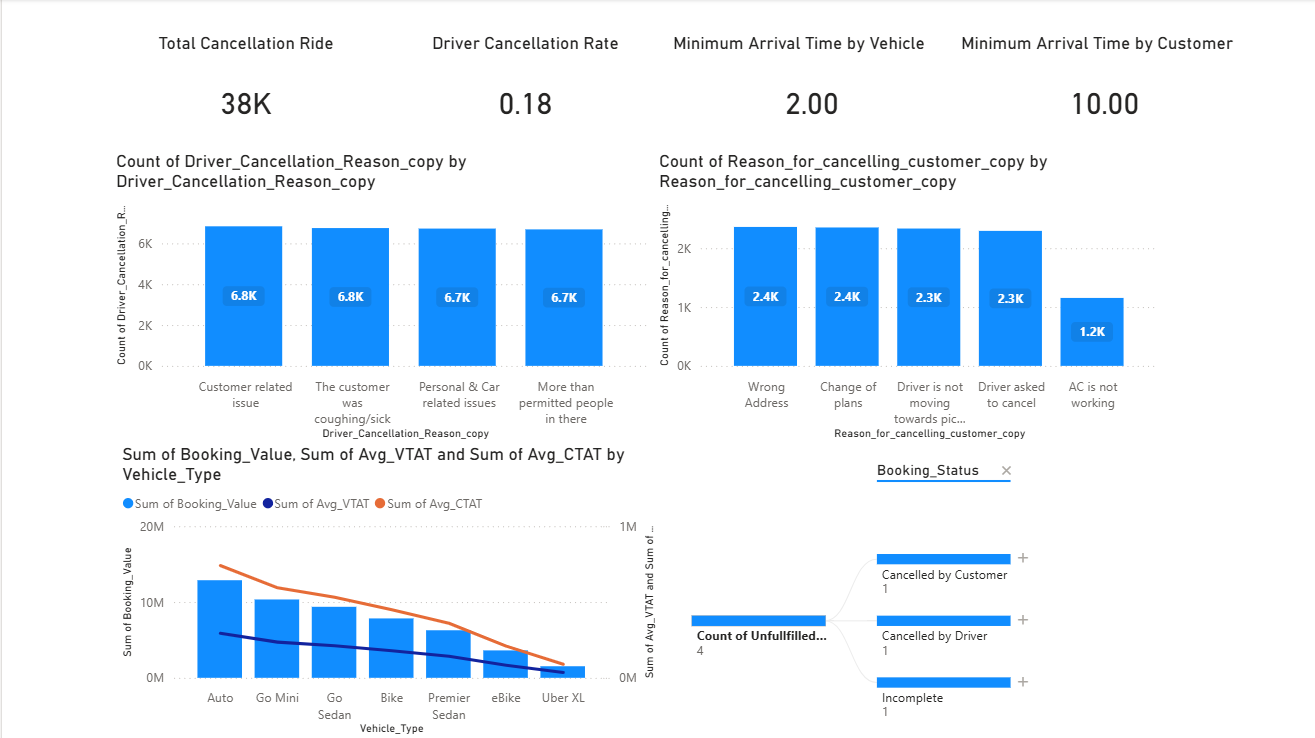

The page's visual inventory and layout, read from the dashboard file:
{"tool":"powerbi","page":{"name":"Page 2","canvas":[1280,720],"ordinal":1},"visuals":[{"type":"card","title":"Total  Cancellation Ride","fields":{"Values":["rideBookings.total_cancellation_ride"]},"box":[111.9,33.1,250.9,114.8],"z":0},{"type":"card","title":"Driver Cancellation Rate","fields":{"Values":["rideBookings.rate_of_driver_cancellation"]},"box":[370.6,33.1,277.2,114.8],"z":1000},{"type":"card","title":"Minimum Arrival Time by Vehicle","fields":{"Values":["rideBookings.minimum_arival_time_vehicle"]},"box":[647.8,33.1,280.1,114.8],"z":2000},{"type":"card","title":"Minimum Arrival Time by Customer","fields":{"Values":["rideBookings.minimum_arrivale_time_customer"]},"box":[927.9,33.1,288.9,114.8],"z":3000},{"type":"columnChart","fields":{"Category":["rideBookings.Driver_Cancellation_Reason_copy"],"Y":["CountNonNull(rideBookings.Driver_Cancellation_Reason_copy)"]},"box":[106,147.4,528.6,285],"z":4000},{"type":"columnChart","fields":{"Category":["rideBookings.Reason_for_cancelling_customer_copy"],"Y":["CountNonNull(rideBookings.Reason_for_cancelling_customer_copy)"]},"box":[634.5,147.4,495.7,285],"z":5000},{"type":"lineClusteredColumnComboChart","fields":{"Category":["rideBookings.Vehicle_Type"],"Y2":["Sum(rideBookings.Avg_VTAT)","Sum(rideBookings.Avg_CTAT)"],"Y":["Sum(rideBookings.Booking_Value)"]},"box":[112,432.4,528.6,287.4],"z":6000},{"type":"decompositionTreeVisual","fields":{"Analyze":["CountNonNull(canceled_ride_by_booking_status.Unfullfilled_rate)"],"ExplainBy":["canceled_ride_by_booking_status.Booking_Status","canceled_ride_by_booking_status.total_ride"]},"box":[640.6,432.4,489.6,287.4],"z":7000}]}

Visuals, with their boxes in screenshot pixels (x1, y1, x2, y2), scaled from the page's 1280x720 canvas onto the 1315x738 screenshot:
"Total  Cancellation Ride" card: [x1=115, y1=34, x2=373, y2=152]
"Driver Cancellation Rate" card: [x1=381, y1=34, x2=666, y2=152]
"Minimum Arrival Time by Vehicle" card: [x1=666, y1=34, x2=953, y2=152]
"Minimum Arrival Time by Customer" card: [x1=953, y1=34, x2=1250, y2=152]
columnChart - rideBookings.Driver_Cancellation_Reason_copy x CountNonNull(rideBookings.Driver_Cancellation_Reason_copy): [x1=109, y1=151, x2=652, y2=443]
columnChart - rideBookings.Reason_for_cancelling_customer_copy x CountNonNull(rideBookings.Reason_for_cancelling_customer_copy): [x1=652, y1=151, x2=1161, y2=443]
lineClusteredColumnComboChart - rideBookings.Vehicle_Type x Sum(rideBookings.Avg_VTAT): [x1=115, y1=443, x2=658, y2=737]
decompositionTreeVisual - CountNonNull(canceled_ride_by_booking_status.Unfullfilled_rate) x canceled_ride_by_booking_status.Booking_Status: [x1=658, y1=443, x2=1161, y2=737]
